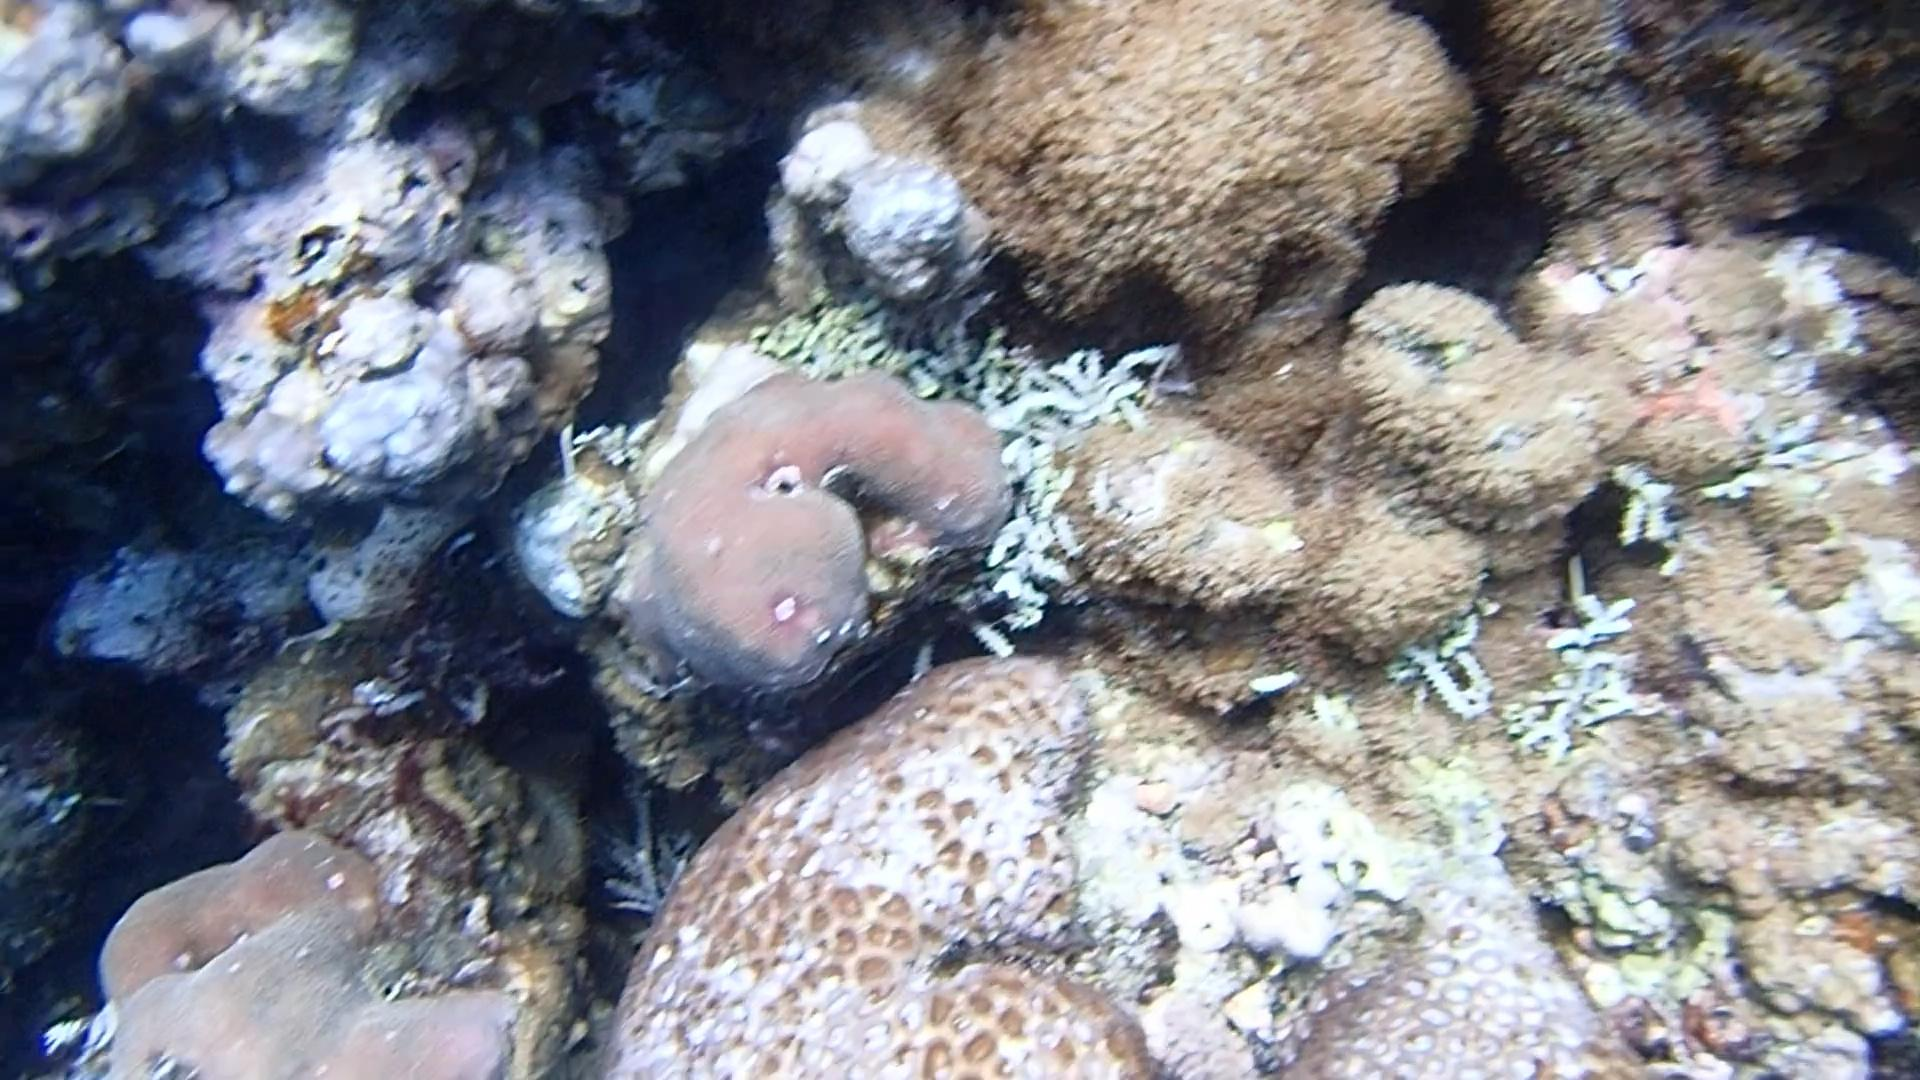Dark Fish: (1731, 183, 1920, 284)
